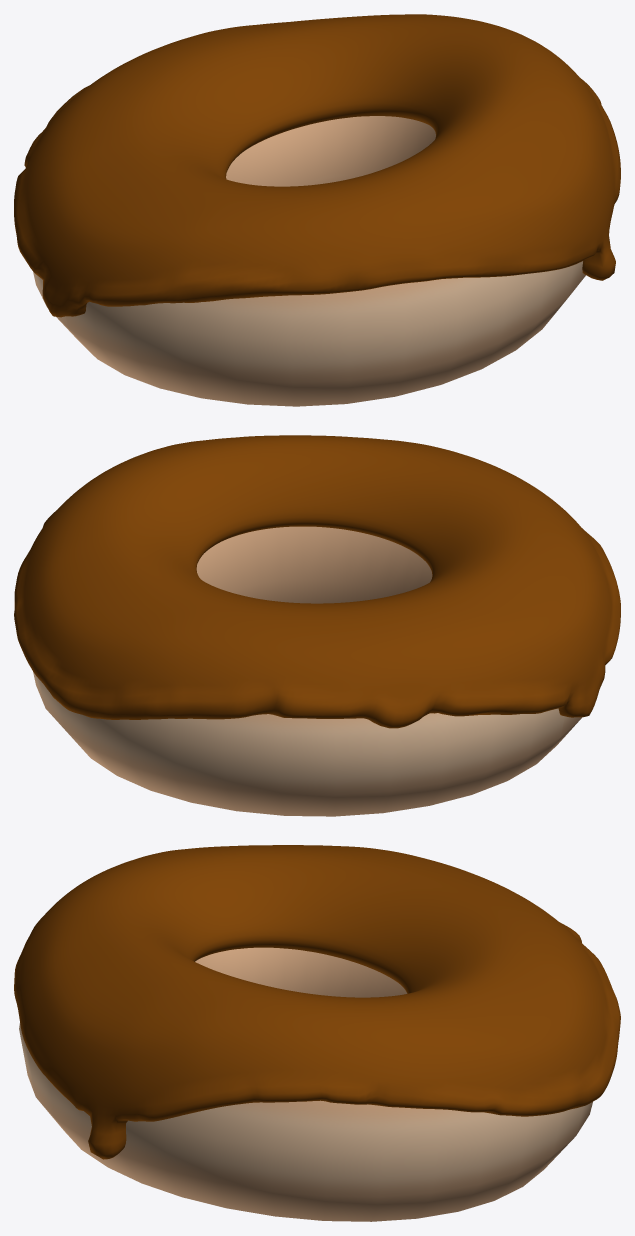
Rendered from DonutChocoWhite.glb.
3 renders of one model, top to bottom at view 1: azimuth 30°, elevation 25°; view 2: azimuth 150°, elevation 25°; view 3: azimuth 270°, elevation 25°, orthographic. The views are drawn at different scales.
Parts seen in each view (by area): view 1: icing, donut; view 2: icing, donut; view 3: icing, donut.
Boxes of the visible parts, bbox=[...] form: icing: bbox=[14, 14, 620, 317]; donut: bbox=[33, 116, 585, 406]; icing: bbox=[14, 435, 620, 728]; donut: bbox=[33, 526, 581, 816]; icing: bbox=[14, 845, 620, 1159]; donut: bbox=[19, 947, 592, 1221].
Size of the model in its own units: 0.1446 by 0.0599 by 0.1402.
2 materials, 1 textured.
